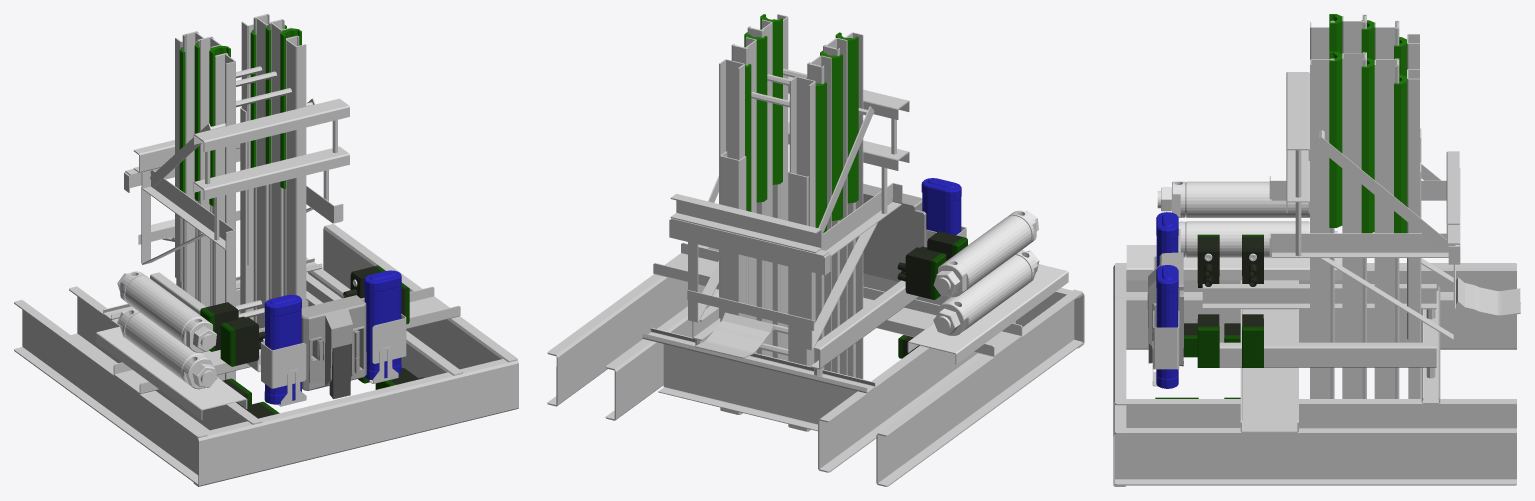
Rendered from Luigi.fbx.
The picture shows the model from 3 angles, left to right: view 1: azimuth 30°, elevation 25°; view 2: azimuth 150°, elevation 25°; view 3: azimuth 270°, elevation 25°; orthographic projection. The views are drawn at different scales.
Visible parts, largest first — view 1: Chassis, Lift_Stage3, Reservoirs, Lift_Stage1, Lift_Stage2, Batteries, Cortex, LiftBase, Cortex_Holsters, Lift_Stage2_sliders, LiftBase_sliders, Lift_Stage1_sliders (+4 smaller); view 2: Chassis, Lift_Stage3, Reservoirs, LiftBase, Lift_Stage2, Lift_Stage1, Lift_Stage1_sliders, Cortex, Lift_Stage2_sliders, LiftBase_sliders, Block Clamp, Batteries (+2 smaller); view 3: Chassis, Lift_Stage3, Reservoirs, Lift_Stage1, Lift_Stage2, LiftBase, Batteries, Lift_Stage2_sliders, Lift_Stage1_sliders, LiftBase_sliders, Block Clamp, Cortex (+5 smaller).
Part boxes in pixels (left/top/right/bottom): Chassis: left=14, top=224, right=518, bottom=486; Lift_Stage3: left=124, top=35, right=349, bottom=380; Reservoirs: left=96, top=271, right=247, bottom=419; Lift_Stage1: left=182, top=14, right=269, bottom=328; Lift_Stage2: left=197, top=19, right=291, bottom=317; Batteries: left=264, top=270, right=401, bottom=404; Cortex: left=301, top=295, right=366, bottom=390; LiftBase: left=175, top=21, right=253, bottom=320; Cortex_Holsters: left=261, top=314, right=406, bottom=406; Lift_Stage2_sliders: left=209, top=28, right=301, bottom=206; LiftBase_sliders: left=179, top=29, right=256, bottom=192; Lift_Stage1_sliders: left=194, top=25, right=286, bottom=201; Chassis: left=547, top=242, right=1084, bottom=486; Lift_Stage3: left=669, top=14, right=909, bottom=379; Reservoirs: left=907, top=210, right=1068, bottom=364; LiftBase: left=719, top=59, right=815, bottom=431; Lift_Stage2: left=747, top=19, right=847, bottom=375; Lift_Stage1: left=731, top=37, right=831, bottom=371; Lift_Stage1_sliders: left=744, top=32, right=842, bottom=220; Cortex: left=863, top=183, right=926, bottom=281; Lift_Stage2_sliders: left=760, top=14, right=858, bottom=203; LiftBase_sliders: left=731, top=60, right=826, bottom=233; Block Clamp: left=694, top=312, right=774, bottom=358; Batteries: left=921, top=178, right=961, bottom=235; Chassis: left=1113, top=263, right=1516, bottom=486; Lift_Stage3: left=1269, top=20, right=1460, bottom=398; Reservoirs: left=1126, top=181, right=1342, bottom=280; Lift_Stage1: left=1374, top=20, right=1399, bottom=398; Lift_Stage2: left=1342, top=14, right=1366, bottom=398; LiftBase: left=1407, top=34, right=1421, bottom=398; Batteries: left=1156, top=212, right=1178, bottom=388; Lift_Stage2_sliders: left=1329, top=14, right=1342, bottom=227; Lift_Stage1_sliders: left=1361, top=20, right=1374, bottom=233; LiftBase_sliders: left=1394, top=37, right=1406, bottom=233; Block Clamp: left=1456, top=277, right=1520, bottom=316; Cortex: left=1147, top=252, right=1183, bottom=366.
Size of the model in its own units: 44.49 by 45.38 by 45.05.
